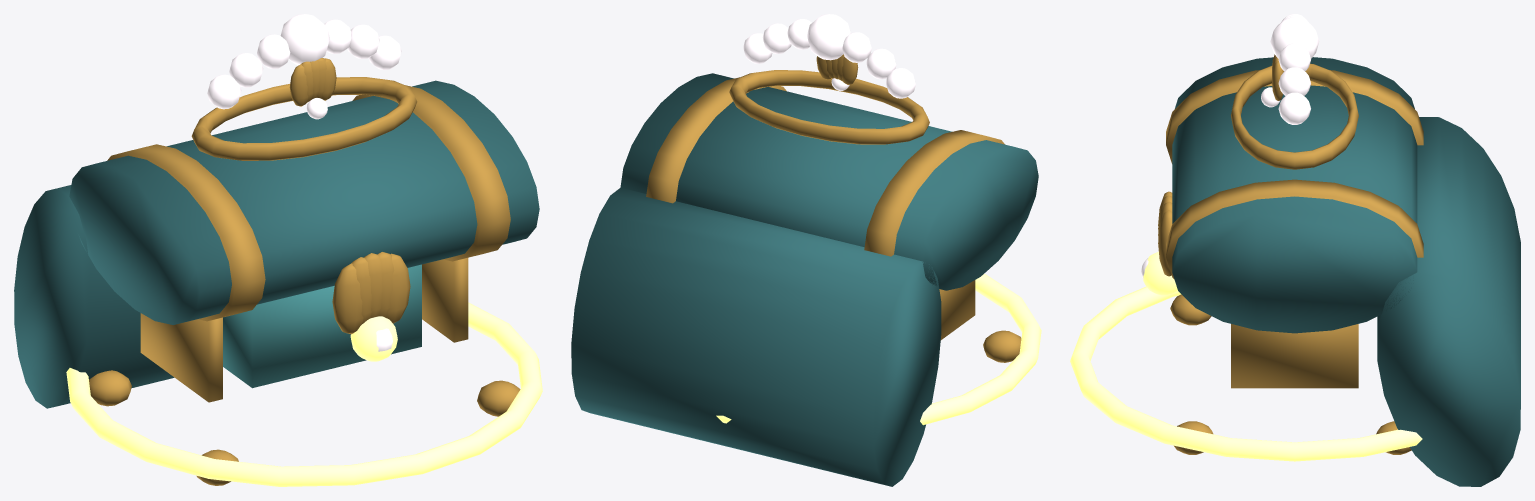
Rendered from opera_detective_chest.glb.
3 views of the same model, side by side, from view 1: azimuth 30°, elevation 25°; view 2: azimuth 150°, elevation 25°; view 3: azimuth 270°, elevation 25° (orthographic). The views are drawn at different scales.
Visible parts, largest first — view 1: LidClosedHingeMesh, VisualMesh.006, LidO, StateCompleteMesh, StateActiveMesh; view 2: LidO, LidClosedHingeMesh, StateCompleteMesh, StateActiveMesh, VisualMesh.006; view 3: LidClosedHingeMesh, LidO, StateActiveMesh, VisualMesh.006, StateCompleteMesh.
Boxes of the visible parts, x1,y1,x2,y2 form: LidClosedHingeMesh: [69, 80, 539, 324]; VisualMesh.006: [89, 252, 520, 485]; LidO: [14, 185, 174, 408]; StateCompleteMesh: [191, 14, 417, 160]; StateActiveMesh: [66, 302, 542, 486]; LidO: [571, 187, 941, 486]; LidClosedHingeMesh: [620, 73, 1038, 290]; StateCompleteMesh: [729, 14, 929, 144]; StateActiveMesh: [716, 274, 1041, 425]; VisualMesh.006: [939, 280, 1021, 362]; LidClosedHingeMesh: [1166, 57, 1423, 333]; LidO: [1377, 117, 1520, 486]; StateActiveMesh: [1070, 251, 1422, 461]; VisualMesh.006: [1141, 191, 1411, 454]; StateCompleteMesh: [1231, 14, 1358, 169].
Bounding box in the file's own units: 4.4 × 4.21 × 4.41.
